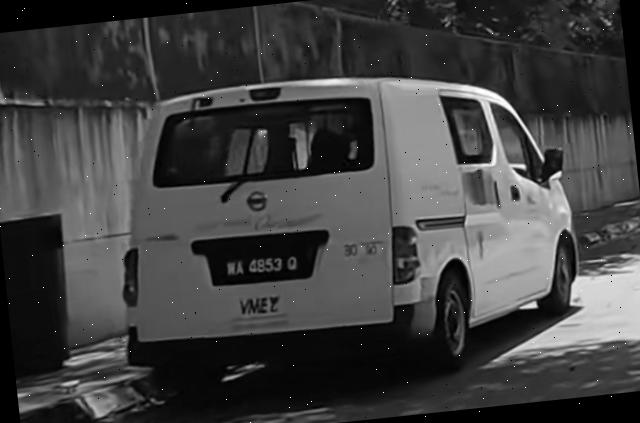License_Plate: (214, 247, 309, 284)
car: (101, 51, 591, 404)
